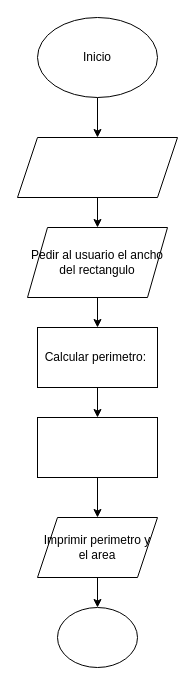
Image size: 195x685. Some labels were removed from this diagram. The centre of each missing label's shape, as x and y in pixels:
"Calcular area:" belongs at point (97, 447).
"Pedir al usuario el largo del rectangulo" belongs at point (97, 167).
